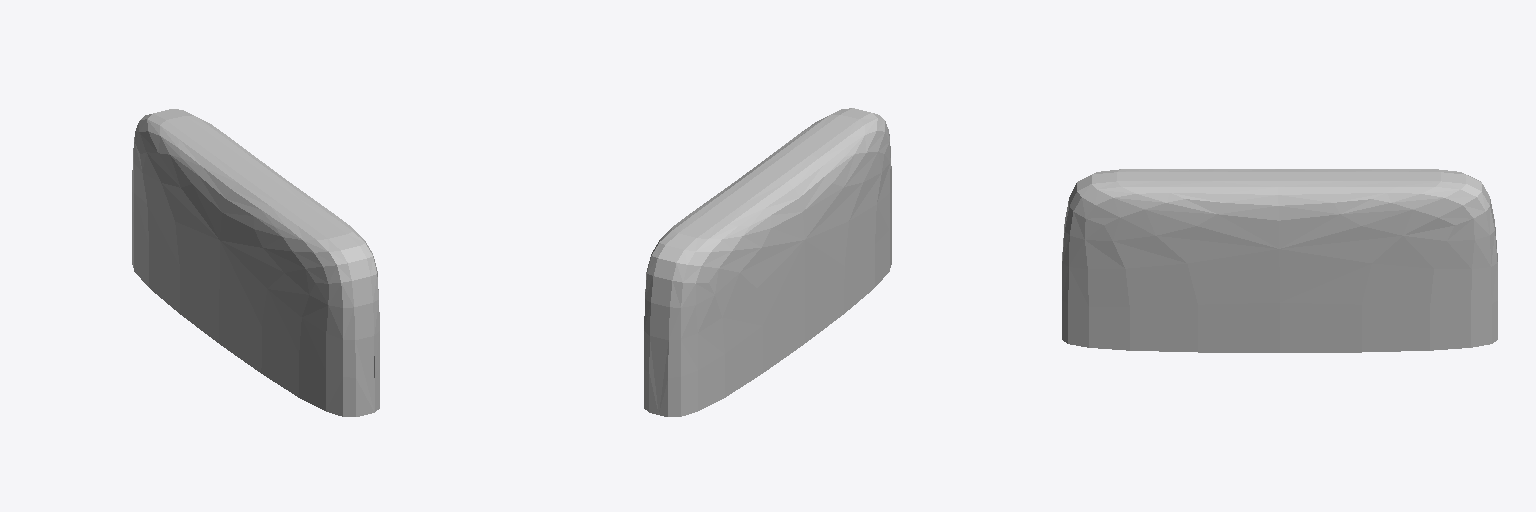
The model's file is hedge.obj.
3 views of the same model, side by side, from view 1: azimuth 30°, elevation 25°; view 2: azimuth 150°, elevation 25°; view 3: azimuth 270°, elevation 25° (orthographic).
Visible parts, largest first — view 1: cube1; view 2: cube1; view 3: cube1.
Boxes of the visible parts, x1,y1,x2,y2 form: cube1: [132, 109, 379, 416]; cube1: [644, 108, 891, 416]; cube1: [1062, 169, 1497, 352].
Size of the model in its own units: 3.88 by 8 by 20.